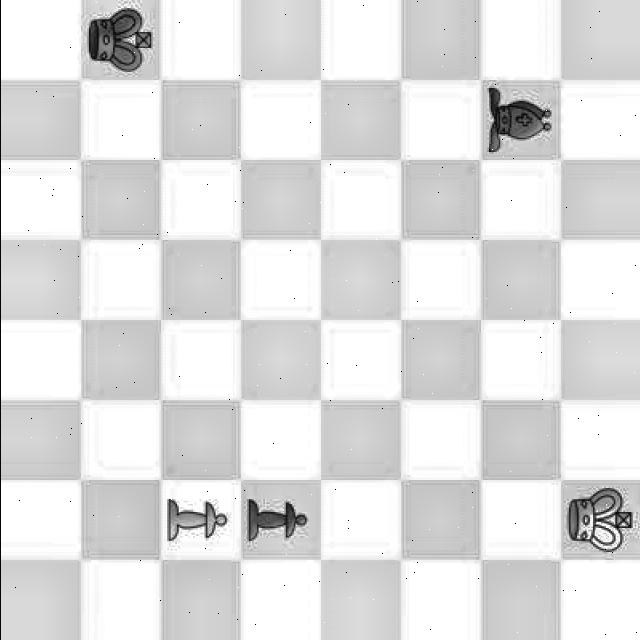black bishop: (478, 78, 556, 165)
black king: (78, 0, 158, 80)
black pawn: (236, 478, 324, 563)
white king: (560, 483, 640, 565)
white pawn: (158, 481, 232, 558)
